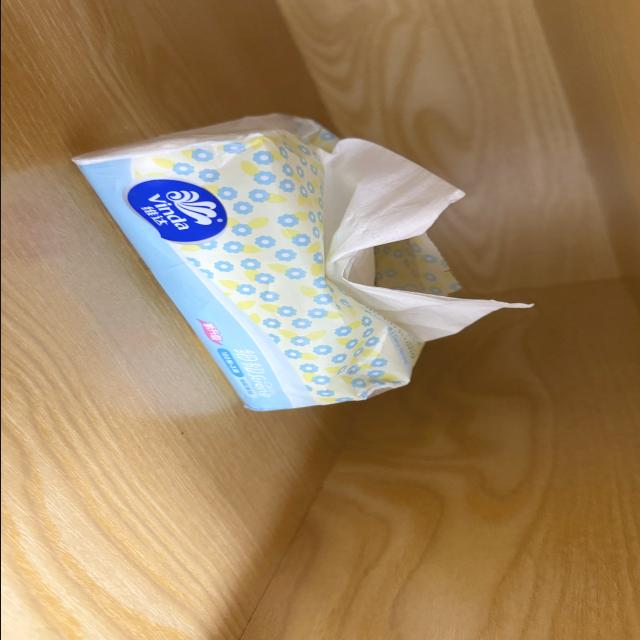tissue: (74, 115, 525, 410), (322, 139, 528, 340)
